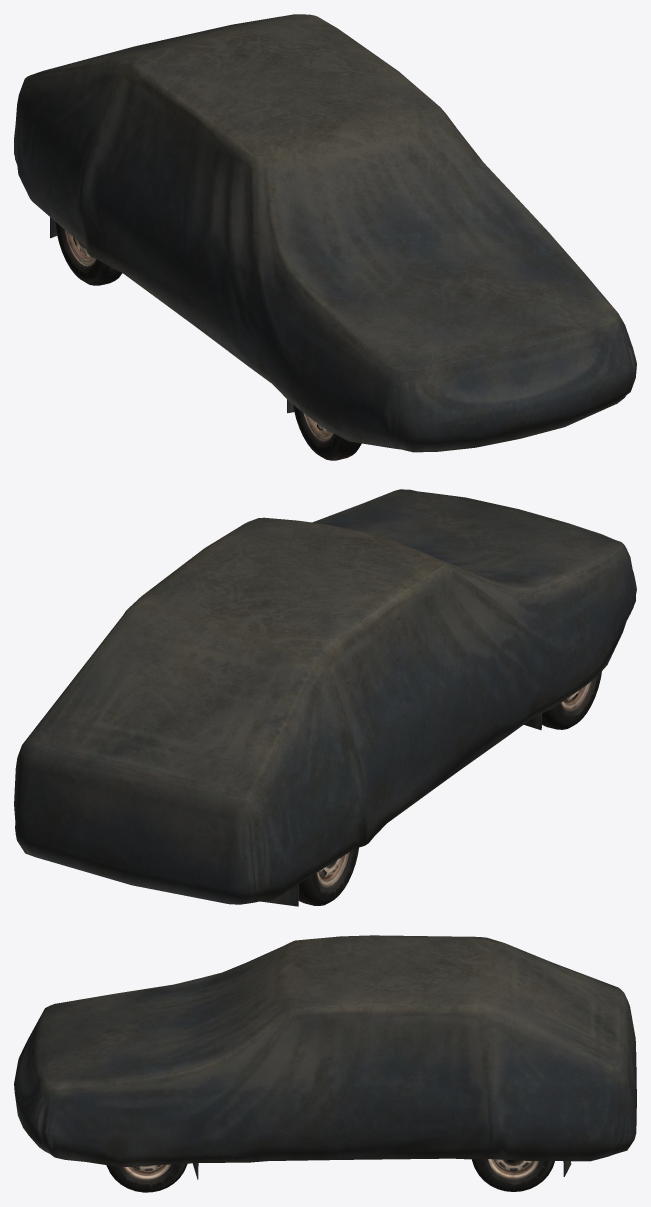
The model's file is covered_car.glb.
The picture shows the model from 3 angles, top to bottom: view 1: azimuth 30°, elevation 25°; view 2: azimuth 150°, elevation 25°; view 3: azimuth 270°, elevation 25°; orthographic projection. The views are drawn at different scales.
Visible parts, largest first — view 1: covered_car, covered_car_wheel_03, covered_car_wheel_02; view 2: covered_car, covered_car_wheel_03, covered_car_wheel_02; view 3: covered_car, covered_car_wheel_04, covered_car_wheel_01.
Part boxes in pixels (box(x1,y1,x2,y2)): covered_car: box(14, 14, 636, 452); covered_car_wheel_03: box(55, 222, 122, 285); covered_car_wheel_02: box(293, 405, 361, 460); covered_car: box(14, 489, 636, 906); covered_car_wheel_03: box(298, 847, 358, 905); covered_car_wheel_02: box(542, 671, 601, 729); covered_car: box(14, 935, 636, 1179); covered_car_wheel_04: box(472, 1159, 554, 1191); covered_car_wheel_01: box(106, 1163, 187, 1192).
Bounding box in the file's own units: 1.79 × 1.41 × 4.38.
1 material, 1 textured.
